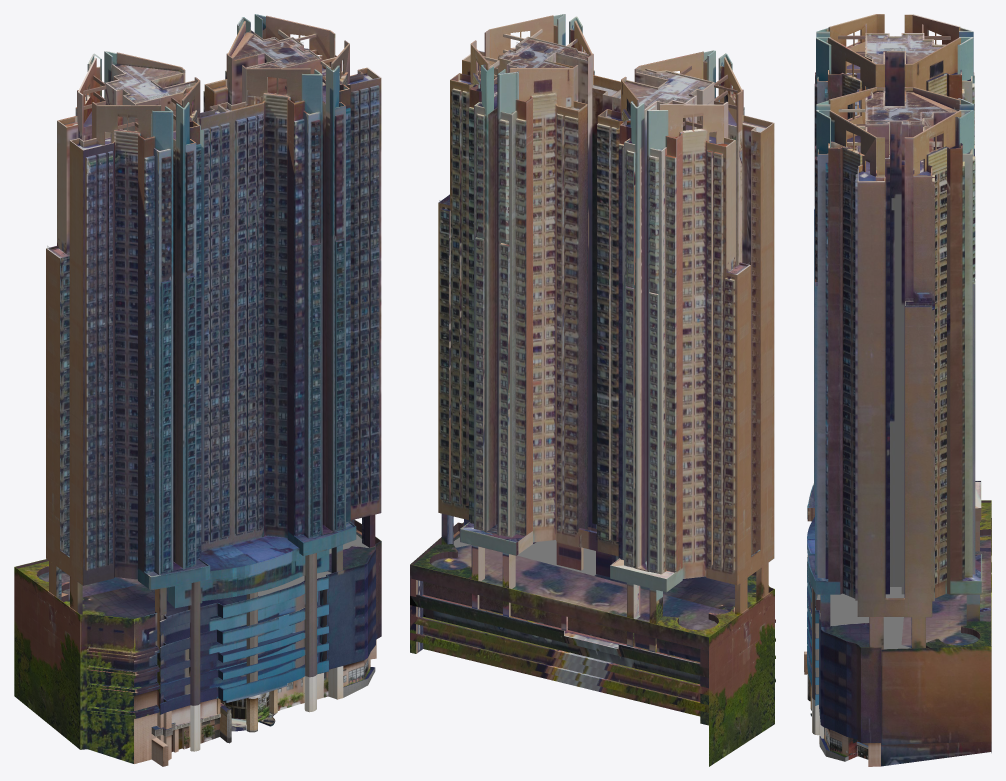
The picture shows the model from 3 angles, left to right: view 1: azimuth 30°, elevation 25°; view 2: azimuth 150°, elevation 25°; view 3: azimuth 270°, elevation 25°; orthographic projection.
Visible parts, largest first — view 1: ld_3087615872; view 2: ld_3087615872; view 3: ld_3087615872.
Boxes of the visible parts, x1,y1,x2,y2 form: ld_3087615872: [14, 14, 381, 766]; ld_3087615872: [410, 14, 775, 766]; ld_3087615872: [804, 14, 991, 766].
Size of the model in its own units: 66.99 by 136 by 35.57.
8 materials, 8 textured.
